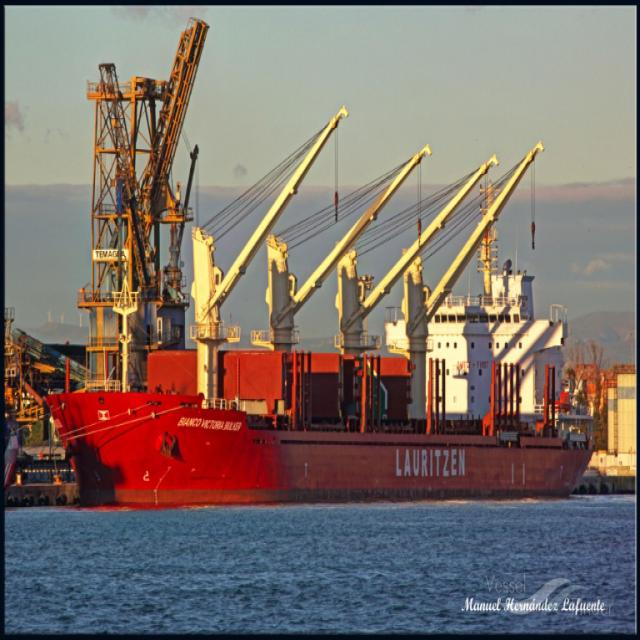OCR: (383, 446, 475, 486), (170, 412, 252, 438)
